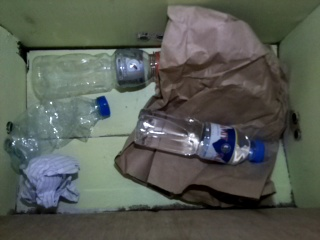bottle: (134, 106, 266, 166), (32, 47, 160, 99)
damaged-bottle: (11, 95, 111, 163)
paper: (112, 6, 291, 210), (19, 155, 80, 211)
